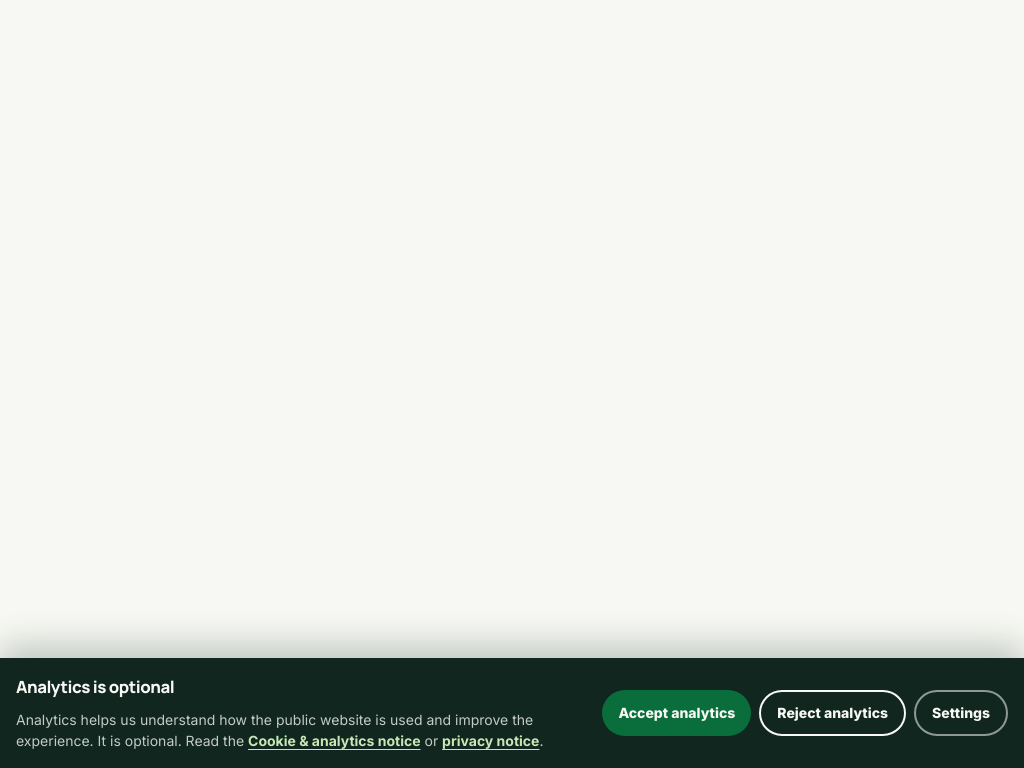
Test: AnalyticsConsent › opens Settings with analytics Off by default
Click the button "Settings" at (961, 713), box x1=914 y1=690 x2=1008 y2=736
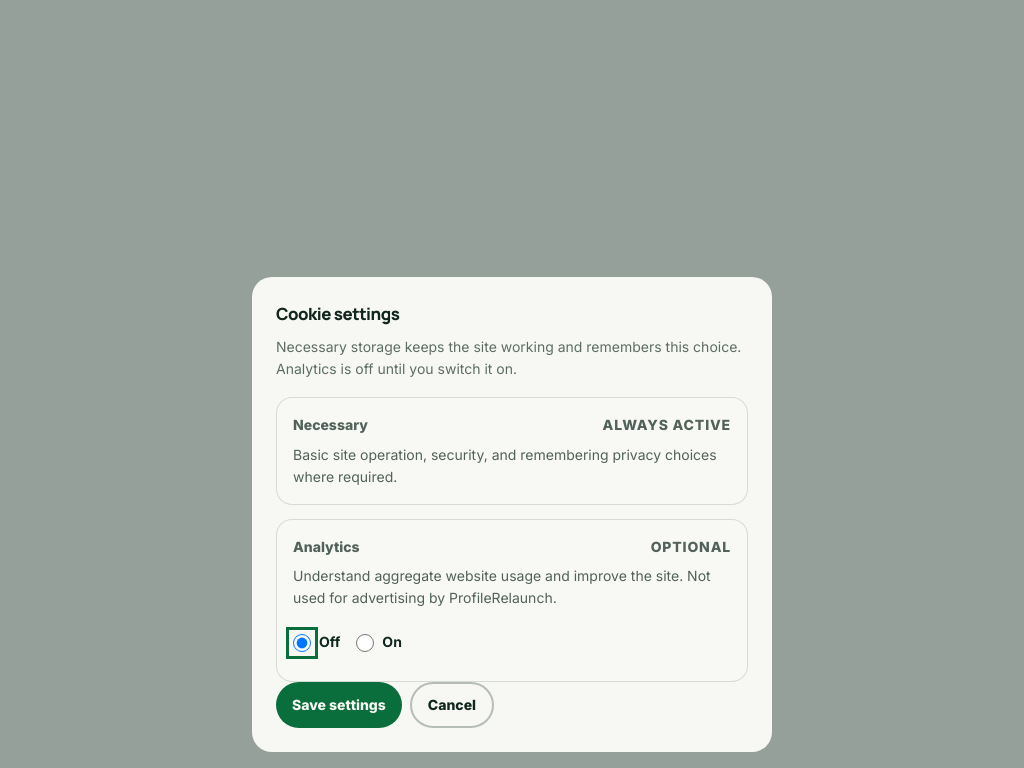
Check: the dialog with test id "cookie-settings-dialog" is shown, box x1=252 y1=277 x2=772 y2=752
Check: the radio button labelled "Off" is checked, box x1=293 y1=634 x2=311 y2=652
Check: the radio button labelled "On" is not checked, box x1=356 y1=634 x2=374 y2=652
